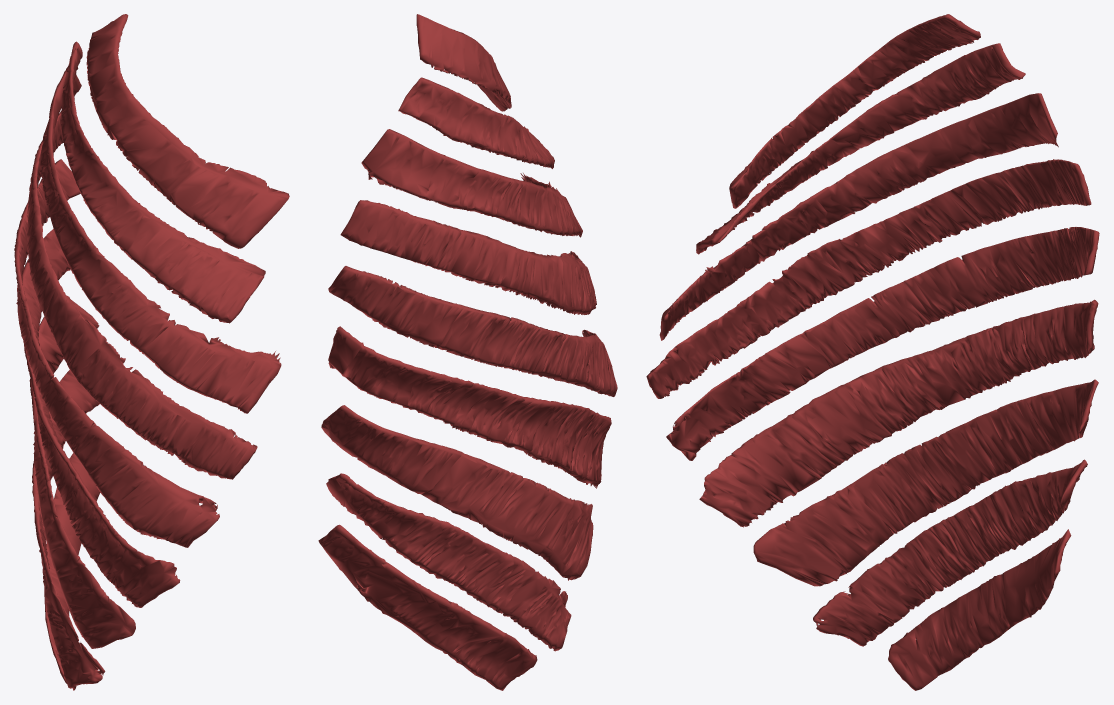
Rendered from innermost-intercostal-muscles-r.glb.
3 renders of one model, left to right at view 1: azimuth 30°, elevation 25°; view 2: azimuth 150°, elevation 25°; view 3: azimuth 270°, elevation 25°, orthographic. The views are drawn at different scales.
Parts seen in each view (by area): view 1: Innermost intercostal muscles.r; view 2: Innermost intercostal muscles.r; view 3: Innermost intercostal muscles.r.
Part boxes in pixels (box(x1,y1,x2,y2)): Innermost intercostal muscles.r: box(14, 14, 289, 690); Innermost intercostal muscles.r: box(318, 14, 617, 690); Innermost intercostal muscles.r: box(646, 14, 1099, 690).
Size of the model in its own units: 0.0919 by 0.3248 by 0.1874.
